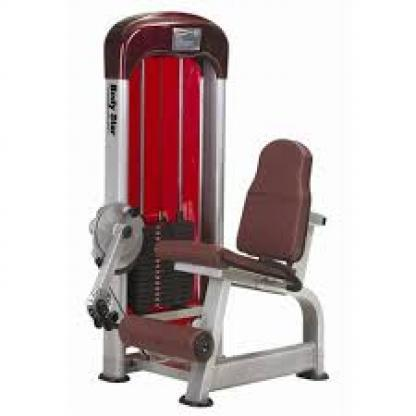leg extension: (74, 5, 339, 416)
